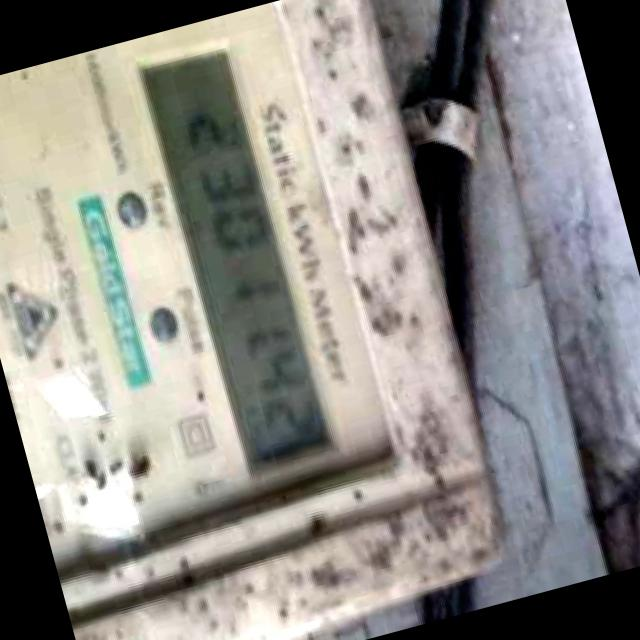LCD: (121, 27, 352, 490)
